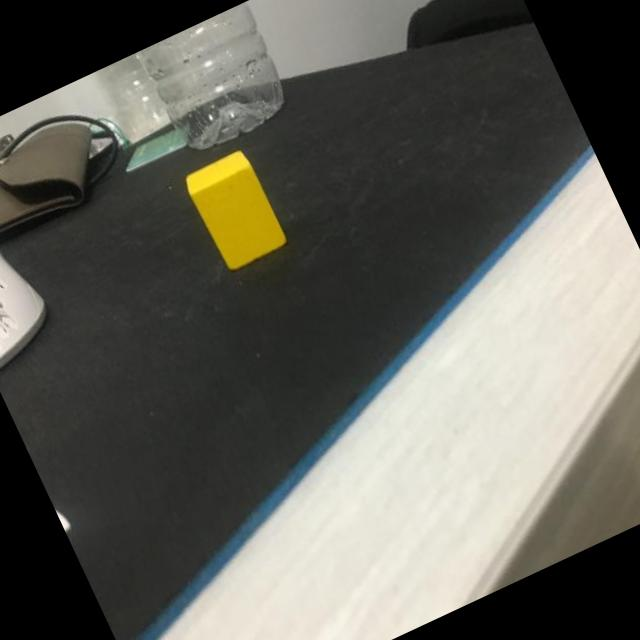yellow: (183, 149, 289, 272)
